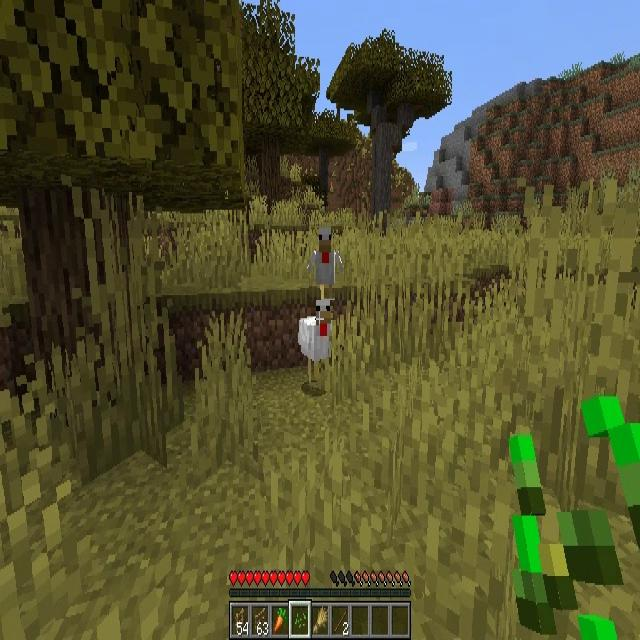duck: (300, 299, 332, 388), (309, 226, 342, 300)
